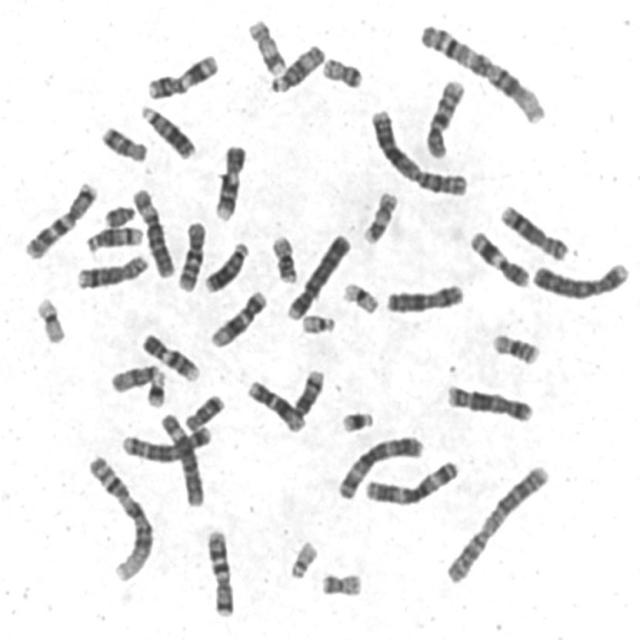A1: (415, 18, 549, 126), (82, 449, 157, 583)
A2: (440, 458, 553, 586), (365, 102, 471, 198)
A3: (332, 428, 426, 501), (359, 453, 462, 507)
B4: (282, 227, 353, 322), (527, 254, 633, 302)
B5: (118, 419, 214, 464), (442, 378, 536, 423)
C10: (420, 73, 468, 160), (172, 214, 210, 294)
C11: (464, 224, 532, 290), (142, 47, 222, 101)
C12: (206, 284, 270, 350), (242, 373, 308, 433)
C6: (154, 406, 207, 508), (128, 182, 177, 278)
C7: (18, 175, 100, 260), (201, 524, 237, 619)
C8: (496, 198, 572, 262), (72, 248, 152, 290)
C9: (136, 326, 202, 383), (209, 139, 249, 222)
D13: (136, 98, 198, 160), (199, 235, 251, 295)
D14: (288, 363, 327, 419), (81, 220, 145, 254)
D15: (265, 37, 327, 94), (106, 358, 163, 394)
E16: (487, 326, 542, 366), (266, 230, 300, 284)
E17: (243, 13, 289, 77), (358, 186, 400, 246)
E18: (96, 119, 150, 164), (180, 388, 227, 433)
F19: (31, 291, 68, 346), (338, 276, 382, 315)
F20: (318, 50, 365, 90), (316, 566, 366, 598)
G21: (336, 404, 378, 434), (142, 367, 168, 409)
G22: (284, 534, 321, 580), (297, 308, 338, 335)
X: (381, 277, 467, 315)
Y: (99, 199, 136, 229)
